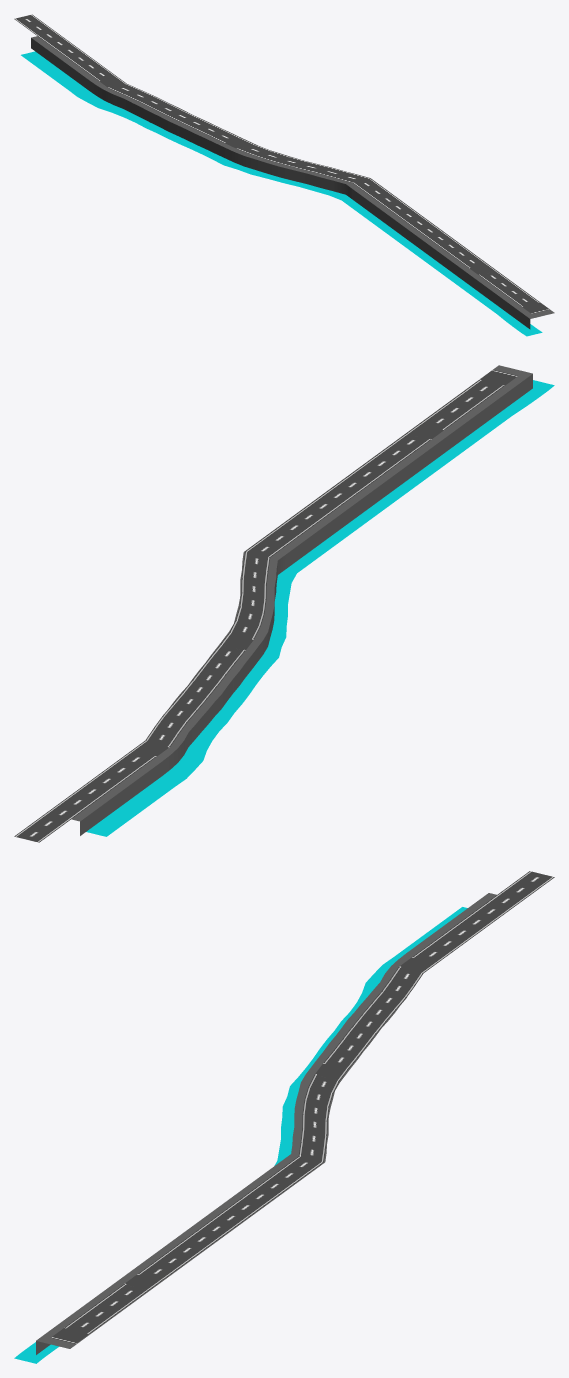
Rendered from outside area.fbx.
3 renders of one model, top to bottom at view 1: azimuth 30°, elevation 25°; view 2: azimuth 150°, elevation 25°; view 3: azimuth 330°, elevation 25°, orthographic. The views are drawn at different scales.
Visible parts, largest first — view 1: road10, river_02; view 2: road10, river_02; view 3: road10, river_02.
Boxes of the visible parts, x1=… form: road10: x1=31, y1=36, x2=554, y2=329; river_02: x1=21, y1=51, x2=542, y2=336; road10: x1=71, y1=365, x2=532, y2=835; river_02: x1=86, y1=380, x2=554, y2=836; road10: x1=36, y1=893, x2=496, y2=1354; river_02: x1=14, y1=907, x2=467, y2=1363.
Bounding box in the file's own units: 62.14 × 5.11 × 378.
